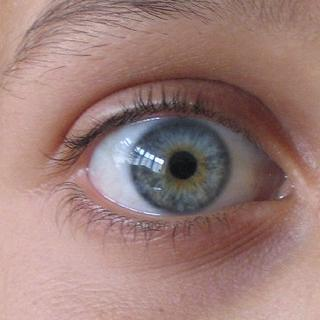pupil: (168, 151, 196, 179)
